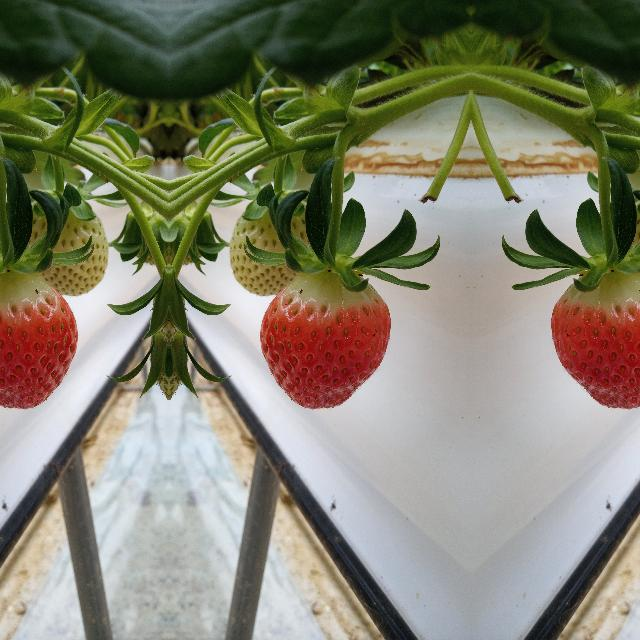Health_100: (258, 270, 390, 410), (551, 270, 640, 409), (0, 270, 78, 409)
Health_25: (232, 188, 310, 290), (26, 188, 104, 290)
